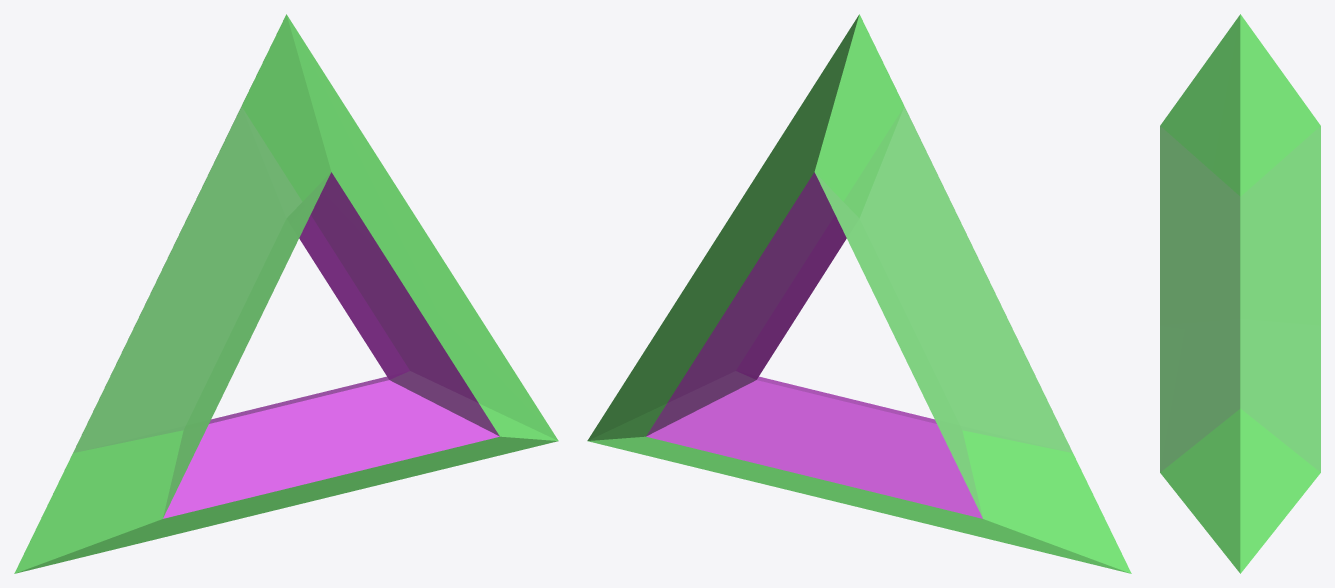
The model's file is Regular3TetragonalToroid.obj.
3 views of the same model, side by side, from view 1: azimuth 30°, elevation 25°; view 2: azimuth 150°, elevation 25°; view 3: azimuth 270°, elevation 25° (orthographic). The views are drawn at different scales.
Bounding box in the file's own units: 2.45 × 2.12 × 0.7.
